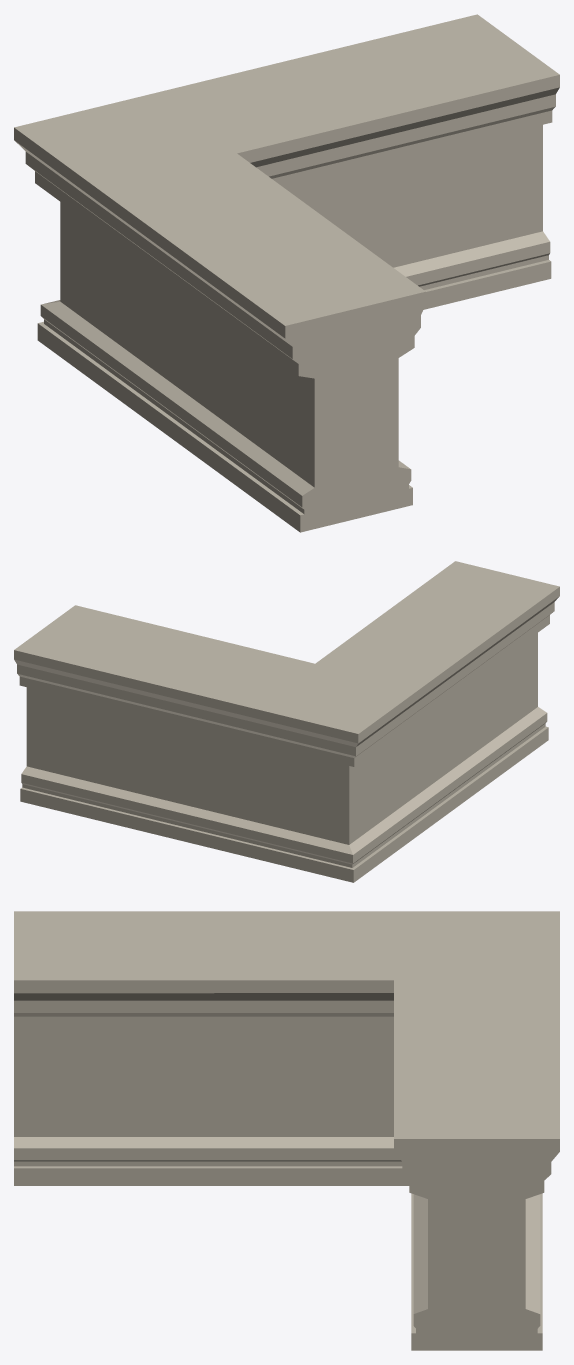
File: BC_Frame_D_02.fbx
The picture shows the model from 3 angles, top to bottom: view 1: azimuth 30°, elevation 25°; view 2: azimuth 150°, elevation 25°; view 3: azimuth 270°, elevation 25°; orthographic projection. The views are drawn at different scales.
Parts seen in each view (by area): view 1: BC_Frame_D_02; view 2: BC_Frame_D_02; view 3: BC_Frame_D_02.
Part boxes in pixels (box(x1,y1,x2,y2)): BC_Frame_D_02: box(14, 14, 559, 532); BC_Frame_D_02: box(14, 561, 559, 882); BC_Frame_D_02: box(14, 911, 559, 1350).
Size of the model in its own units: 474 by 206 by 481.
